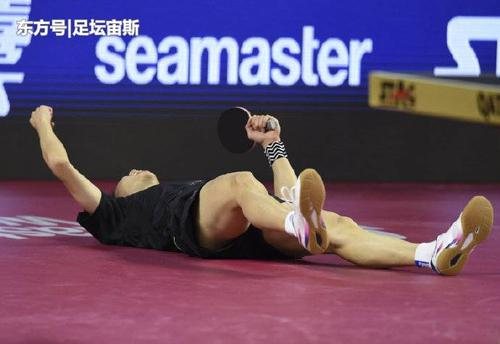fall: (10, 97, 497, 275)
